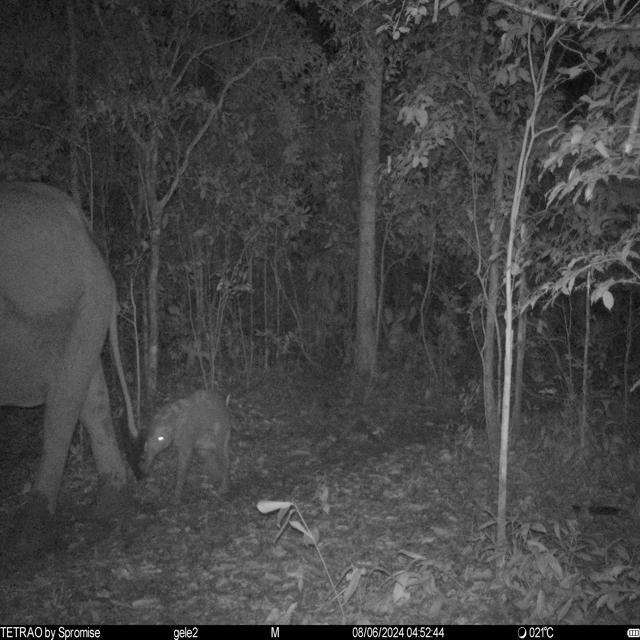calf: (134, 392, 232, 509)
elephant: (0, 183, 146, 519)
